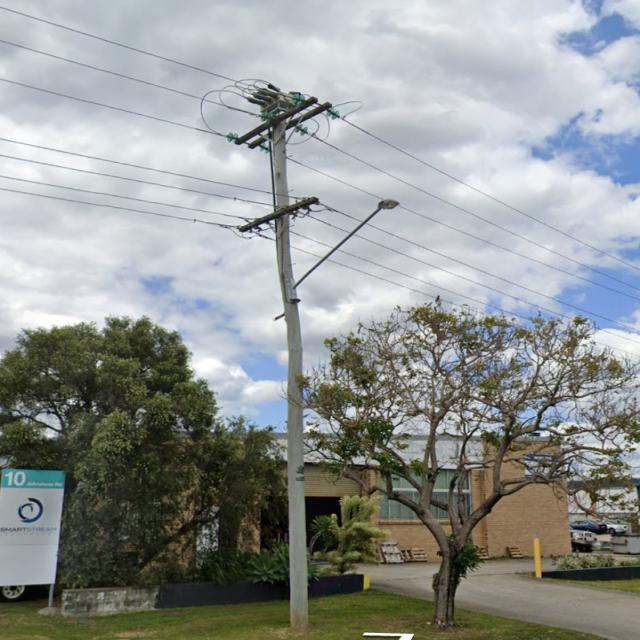HV-switch: (246, 83, 302, 118)
HV-transmission: (225, 98, 336, 154)
crossarm: (234, 96, 334, 150), (238, 197, 319, 232)
streetlight: (293, 199, 400, 289)
timber-pole: (270, 116, 310, 630)
